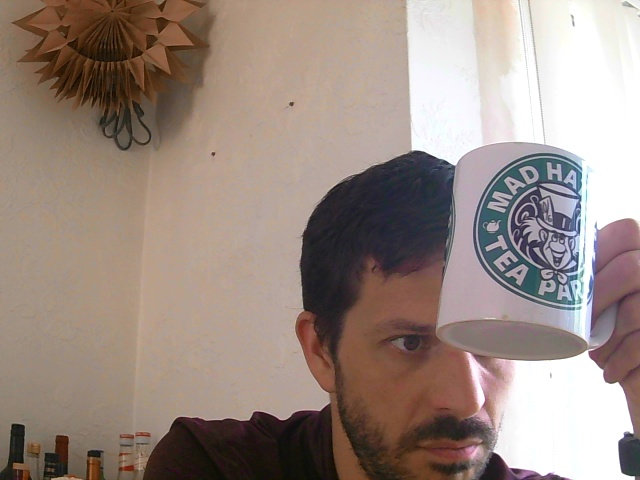mug: (434, 139, 603, 359)
